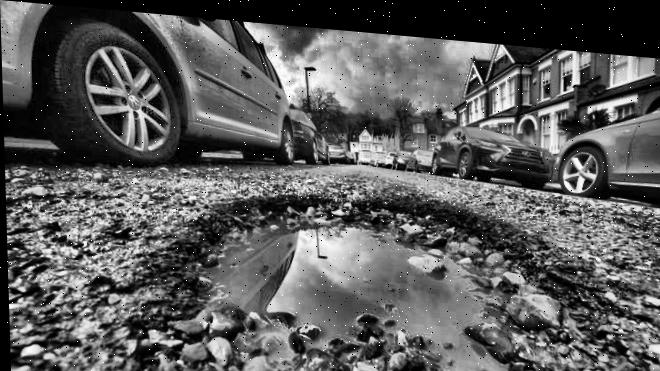pothole: (165, 177, 611, 371)
